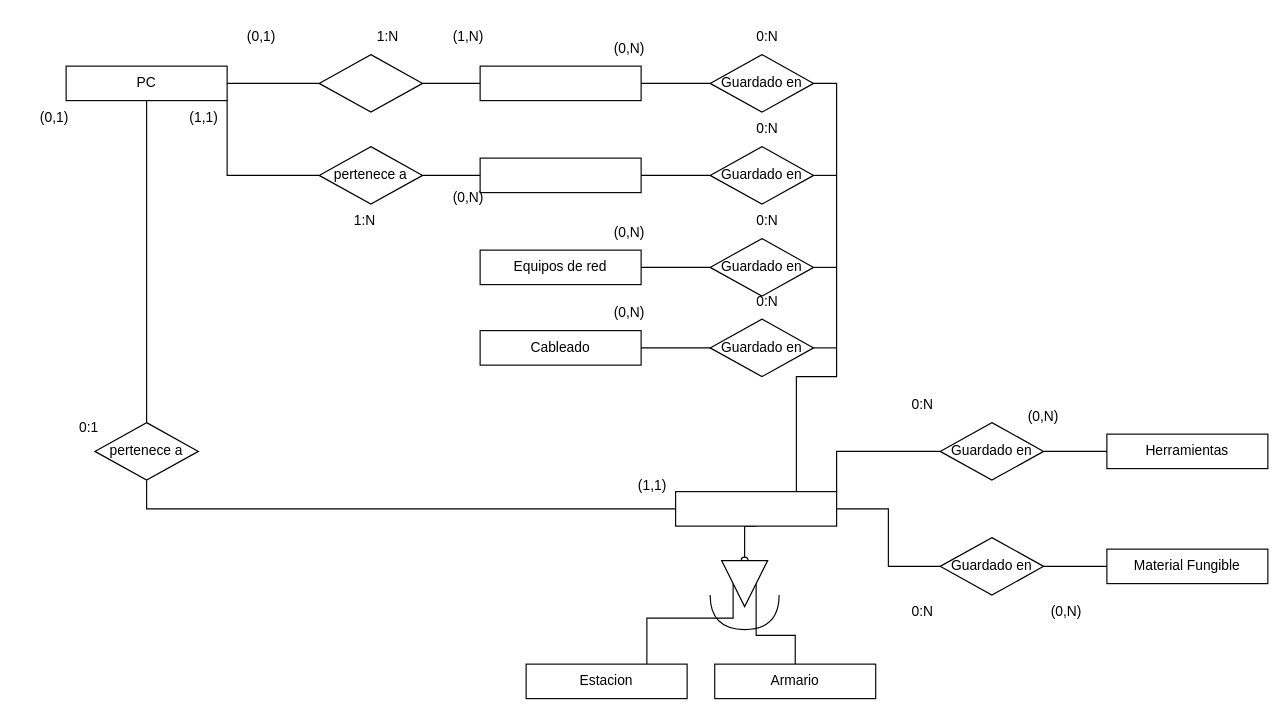
This 1288x719 diagram has some shape labels left out. Here are the shapes that lost their labels. From the top down, the box of each, then its label:
(318, 53, 423, 112): Compuesto por
(479, 65, 641, 101): Componentes
(479, 157, 641, 193): Perifericos
(674, 490, 837, 526): Localizacion
